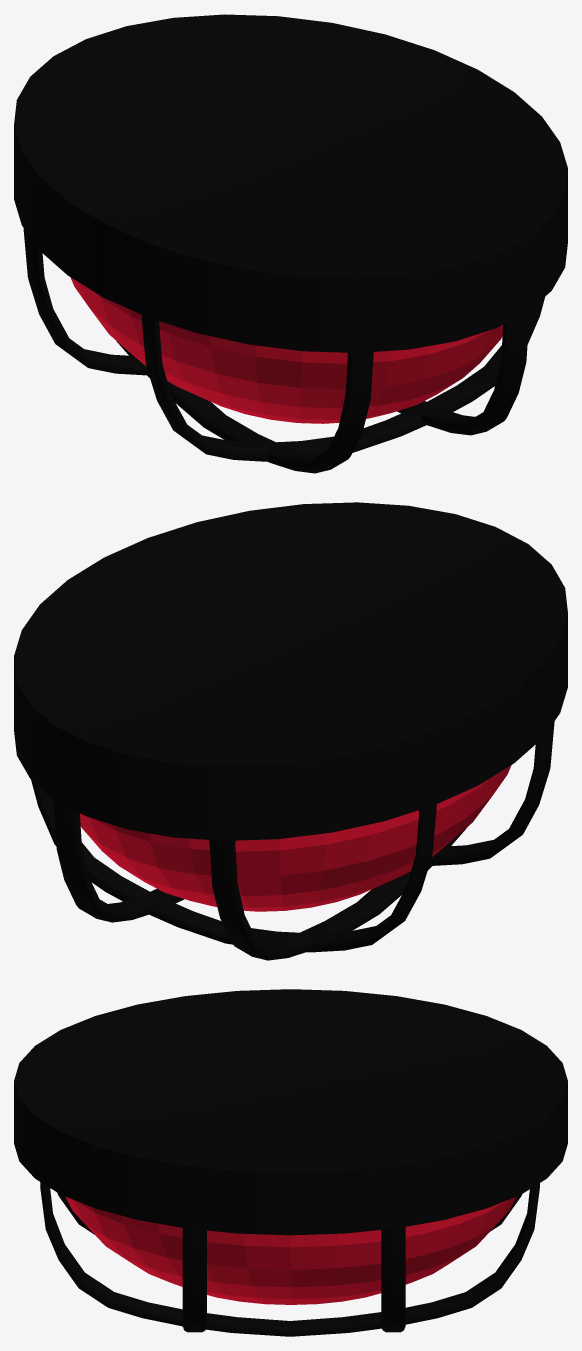
The model's file is red alarm light.fbx.
3 renders of one model, top to bottom at view 1: azimuth 30°, elevation 25°; view 2: azimuth 150°, elevation 25°; view 3: azimuth 270°, elevation 25°, orthographic. The views are drawn at different scales.
Parts seen in each view (by area): view 1: Sphere.005; view 2: Sphere.005; view 3: Sphere.005.
Boxes of the visible parts, left/top/right/bottom form: Sphere.005: left=14, top=14, right=567, bottom=473; Sphere.005: left=14, top=502, right=567, bottom=960; Sphere.005: left=14, top=989, right=567, bottom=1336.
Bounding box in the file's own units: 154 × 86.38 × 197.
